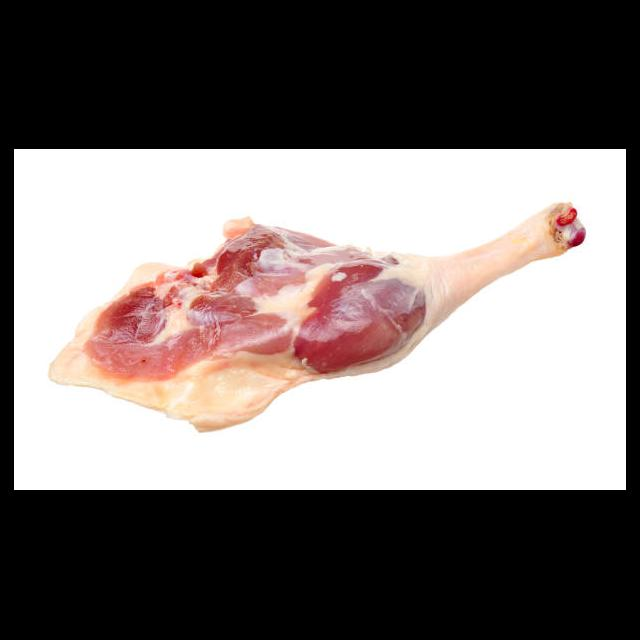chicken: (45, 200, 587, 434)
